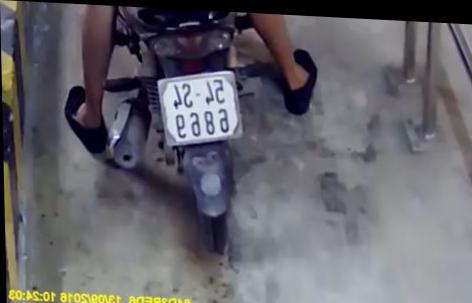License_Plate: (151, 63, 247, 150)
